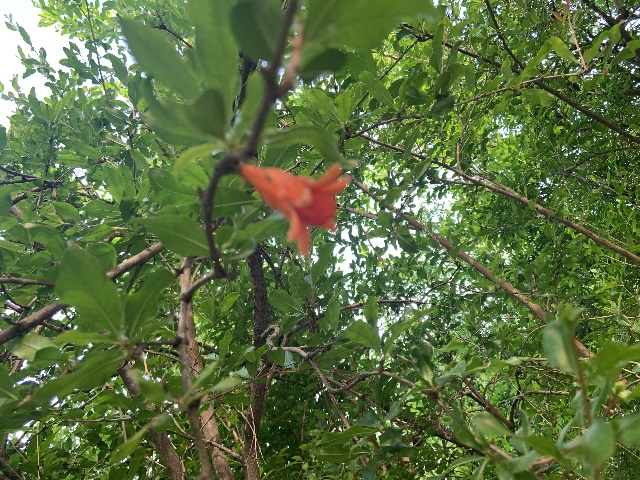flower: (241, 161, 350, 256)
